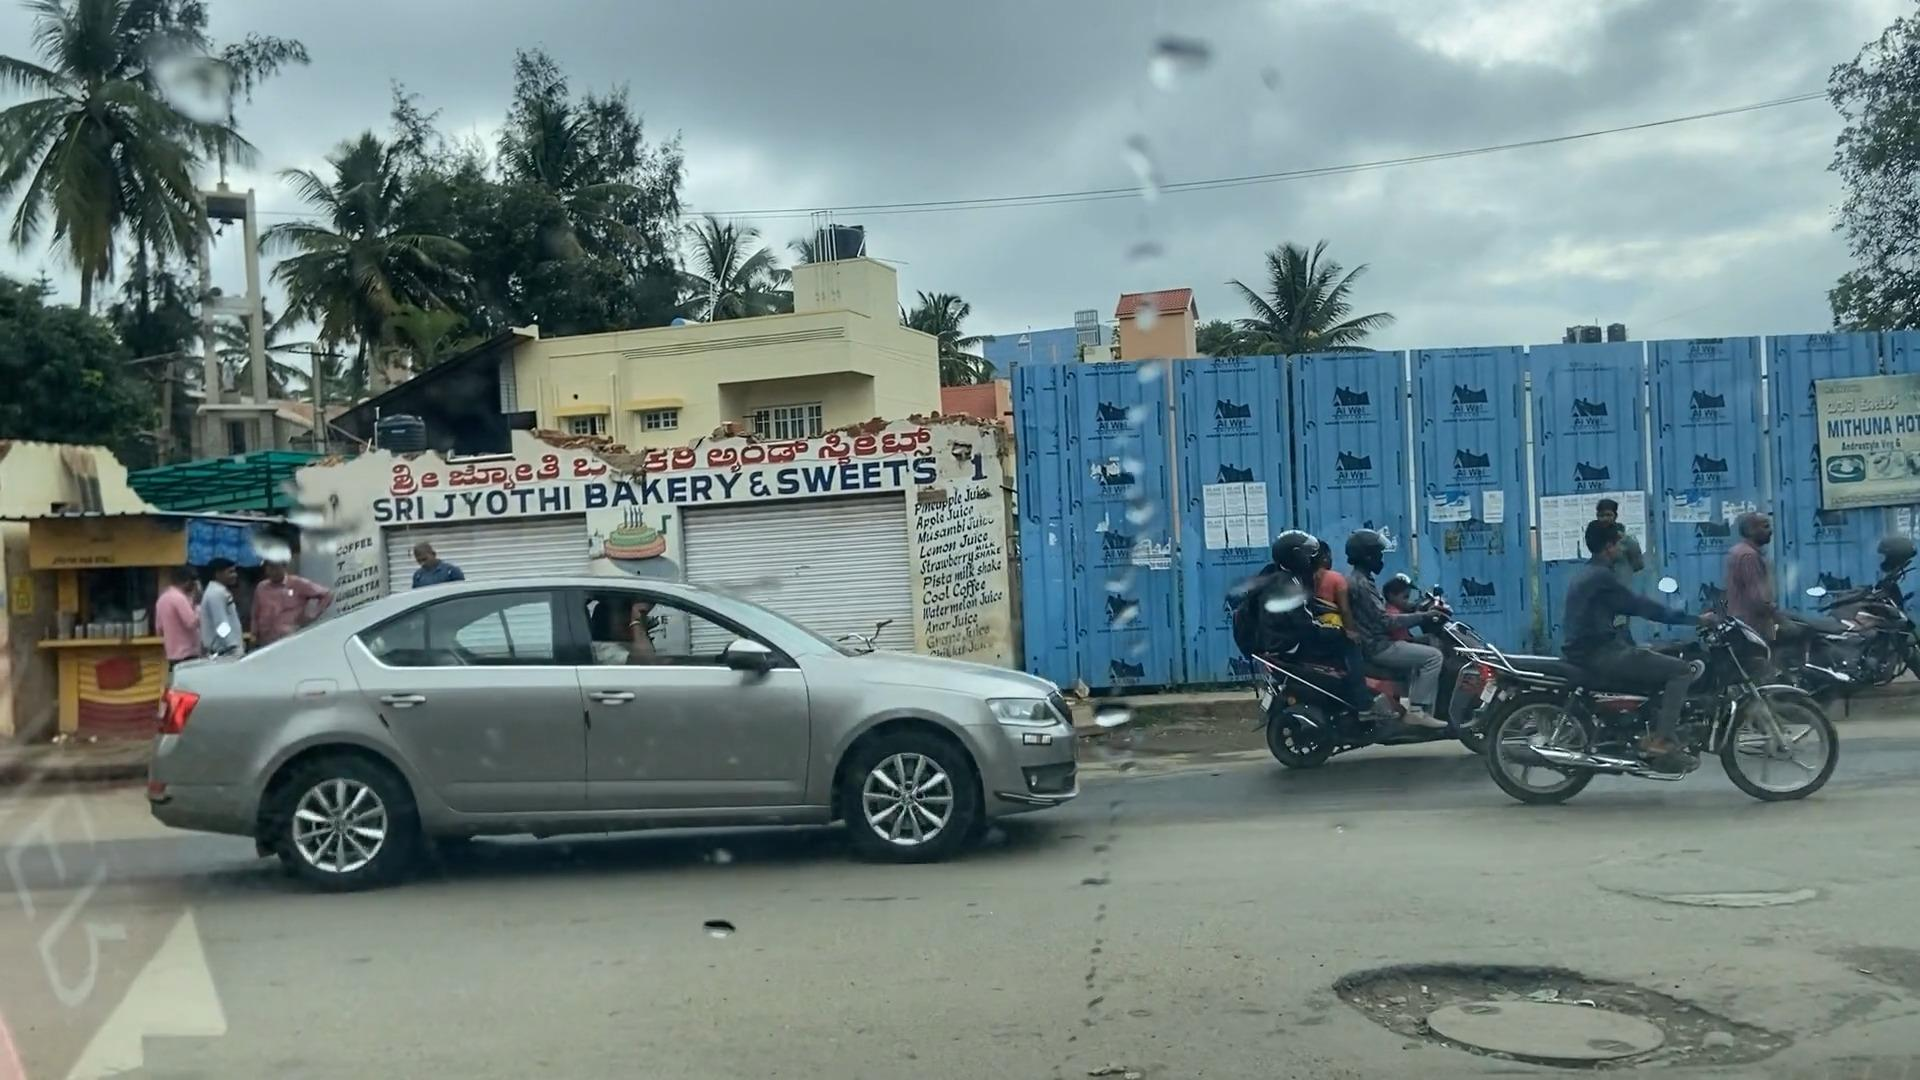LMV: (162, 596, 1080, 873), (1506, 524, 1776, 812), (1230, 517, 1514, 774)
RoadDamages: (1333, 949, 1771, 1080), (1623, 851, 1849, 926), (1826, 936, 1920, 1080)
